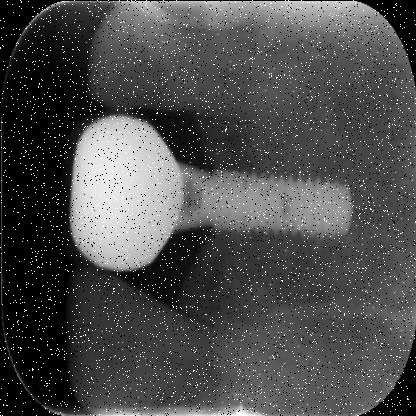ITI: (208, 156, 357, 240)
